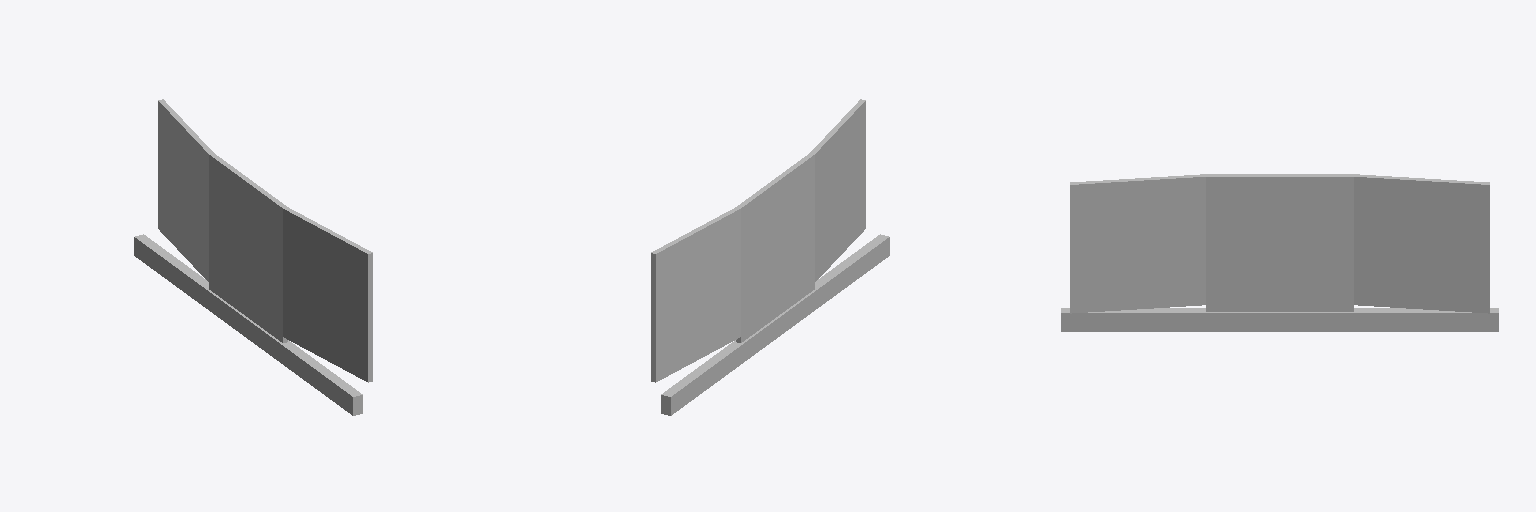
Rendered from holoCompProject.obj.
3 renders of one model, left to right at view 1: azimuth 30°, elevation 25°; view 2: azimuth 150°, elevation 25°; view 3: azimuth 270°, elevation 25°, orthographic.
Parts seen in each view (by area): view 1: Cube1; view 2: Cube1; view 3: Cube1.
Boxes of the visible parts, <box> form: Cube1: <box>134,99,372,415</box>; Cube1: <box>651,99,889,415</box>; Cube1: <box>1061,174,1498,331</box>.
Size of the model in its own units: 0.1298 by 0.7749 by 2.